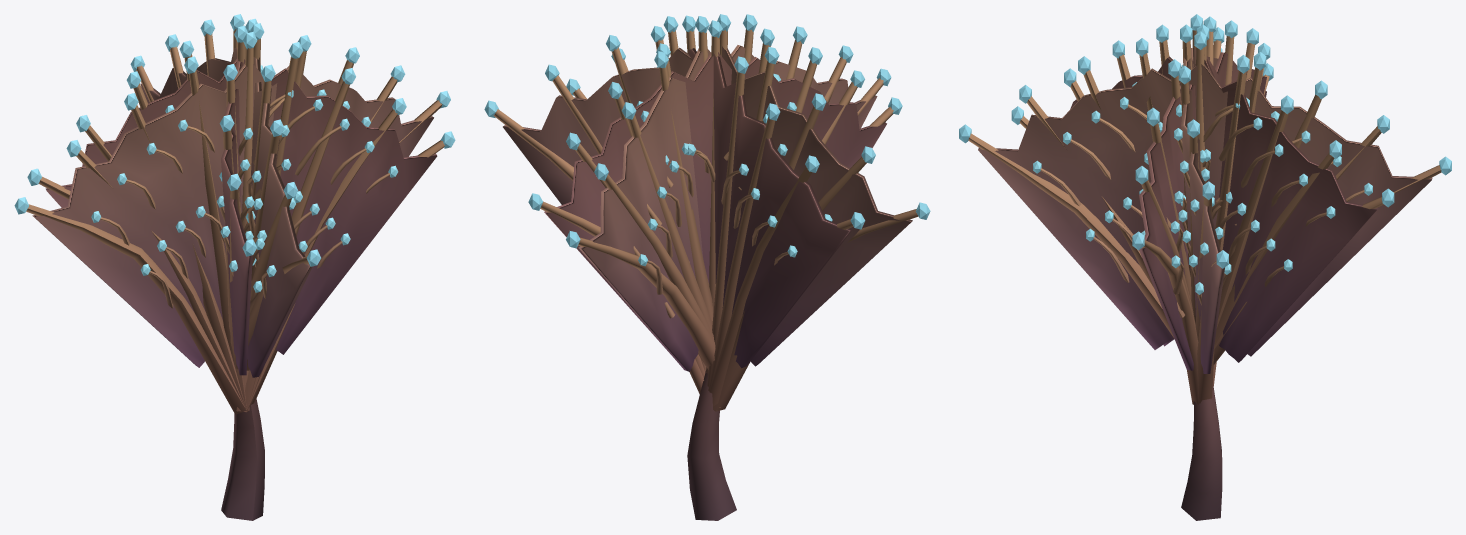
Rendered from alien-coral.glb.
The picture shows the model from 3 angles, left to right: view 1: azimuth 30°, elevation 25°; view 2: azimuth 150°, elevation 25°; view 3: azimuth 270°, elevation 25°; orthographic projection.
Visible parts, largest first — view 1: coral-1, coral-0; view 2: coral-1, coral-0; view 3: coral-1, coral-0.
Part boxes in pixels (x1=…): coral-1: x1=14, y1=14, x2=450, y2=414; coral-0: x1=27, y1=18, x2=455, y2=520; coral-1: x1=484, y1=14, x2=930, y2=411; coral-0: x1=528, y1=15, x2=902, y2=520; coral-1: x1=959, y1=14, x2=1451, y2=404; coral-0: x1=1011, y1=20, x2=1394, y2=520.
Bounding box in the file's own units: 0.928 × 1 × 0.917.
